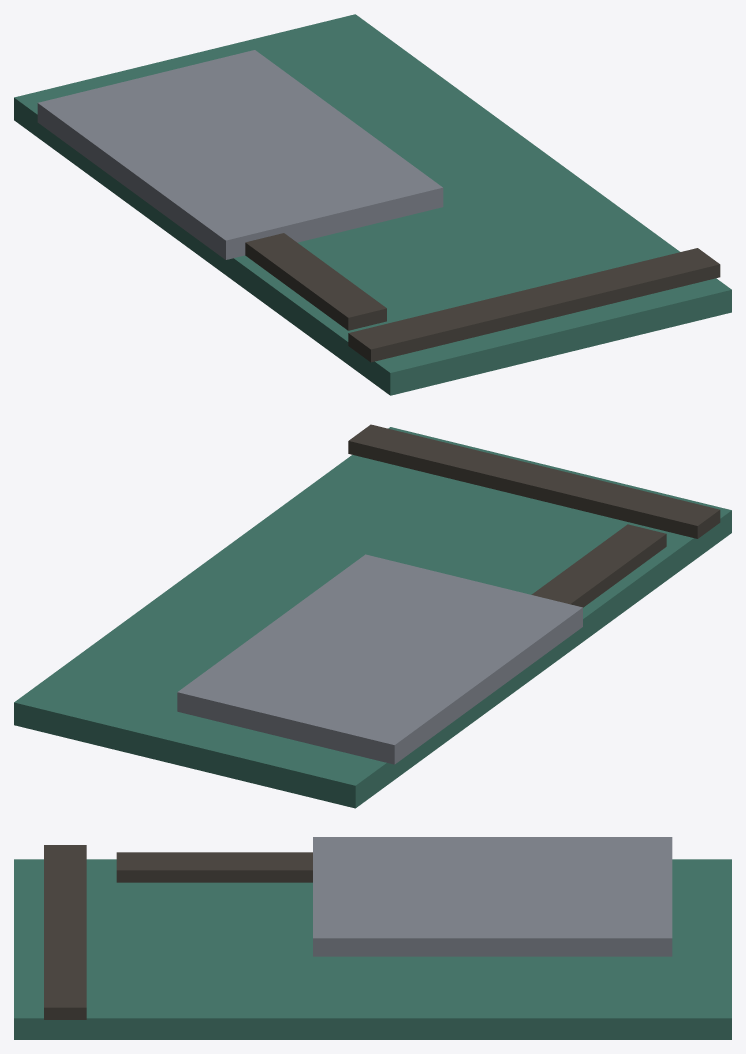
The model's file is salvage_patch_strip.glb.
The picture shows the model from 3 angles, top to bottom: view 1: azimuth 30°, elevation 25°; view 2: azimuth 150°, elevation 25°; view 3: azimuth 270°, elevation 25°; orthographic projection. The views are drawn at different scales.
Size of the model in its own units: 0.455 by 0.052 by 0.84.
